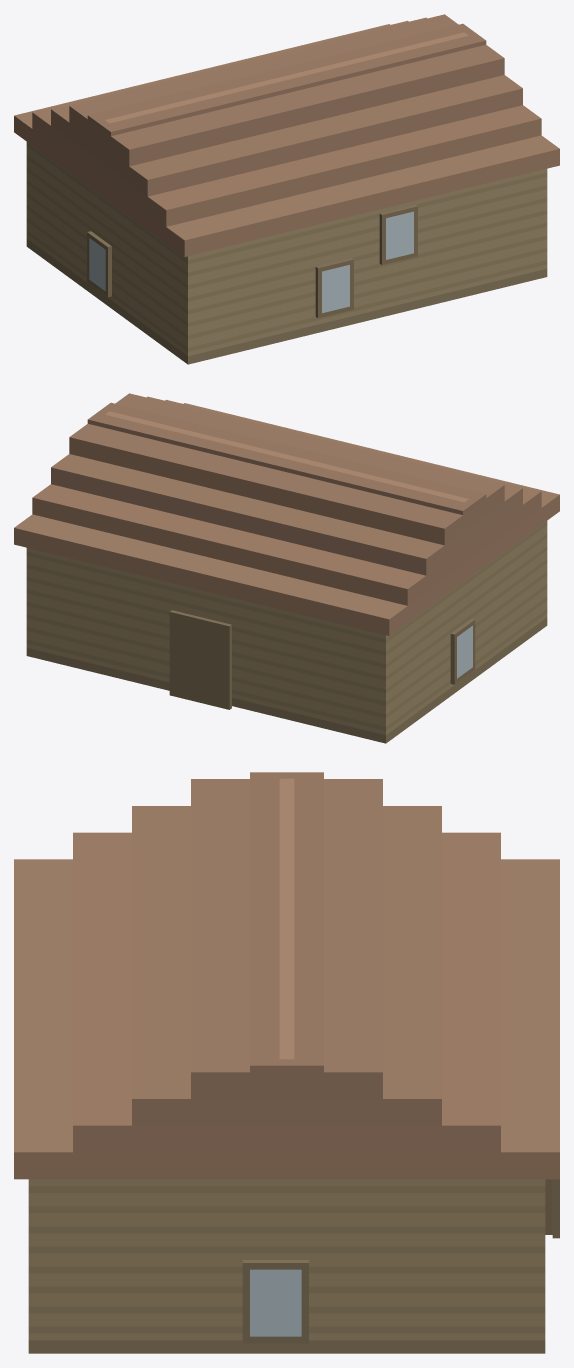
Rendered from taller_picapedrero_01.glb.
3 renders of one model, top to bottom at view 1: azimuth 30°, elevation 25°; view 2: azimuth 150°, elevation 25°; view 3: azimuth 270°, elevation 25°, orthographic. The views are drawn at different scales.
Visible parts, largest first — view 1: taller_picapedrero_01; view 2: taller_picapedrero_01; view 3: taller_picapedrero_01.
Boxes of the visible parts, bbox=[...] form: taller_picapedrero_01: bbox=[14, 14, 559, 364]; taller_picapedrero_01: bbox=[14, 393, 559, 743]; taller_picapedrero_01: bbox=[14, 772, 559, 1353].
Bounding box in the file's own units: 9.4 × 4.4 × 7.4.
